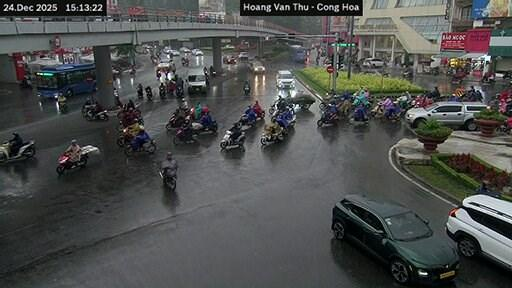motorbike: (56, 144, 98, 174), (0, 139, 35, 162), (125, 139, 156, 154), (268, 97, 294, 113), (220, 130, 243, 148), (172, 127, 195, 144), (316, 109, 338, 126), (396, 94, 412, 117), (166, 111, 185, 130), (348, 104, 368, 122), (192, 120, 217, 134), (259, 130, 284, 144), (319, 94, 342, 109), (380, 104, 400, 121), (275, 112, 294, 129), (159, 169, 175, 189), (80, 99, 95, 117), (118, 127, 133, 145), (412, 94, 432, 107), (236, 113, 255, 126), (86, 109, 108, 120), (496, 117, 511, 133), (115, 120, 131, 130), (451, 72, 466, 82), (423, 66, 438, 75), (117, 104, 127, 117), (252, 108, 265, 117), (19, 80, 32, 88), (57, 102, 67, 111), (159, 85, 165, 98), (403, 72, 412, 80), (134, 117, 142, 125), (502, 70, 511, 77), (133, 108, 140, 117), (445, 68, 454, 75), (243, 85, 249, 94), (147, 89, 152, 99), (182, 58, 188, 66), (137, 86, 140, 99), (130, 67, 134, 76), (3, 142, 9, 147), (176, 85, 182, 90), (176, 90, 181, 95)
